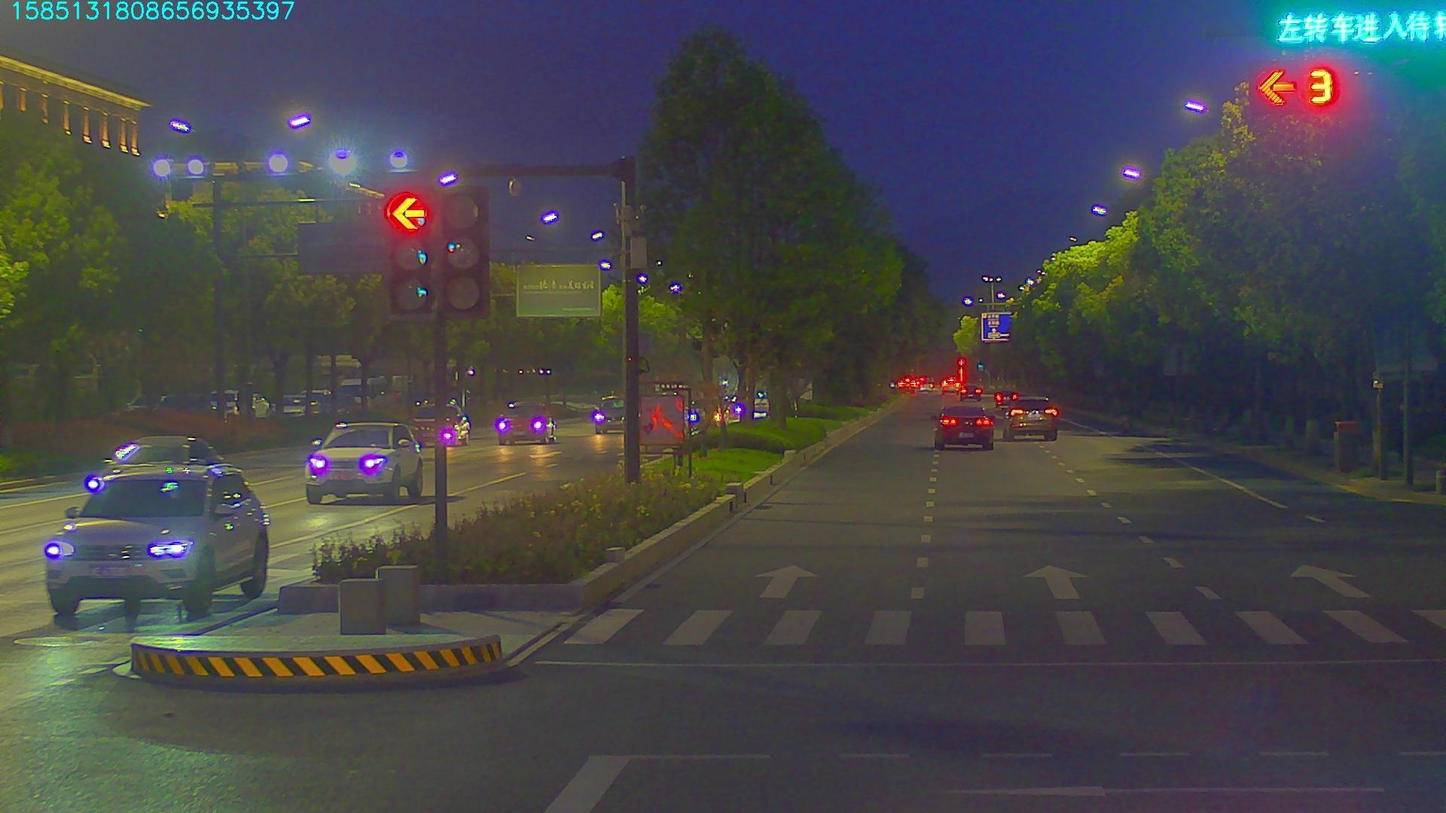red: (1245, 62, 1362, 107)
